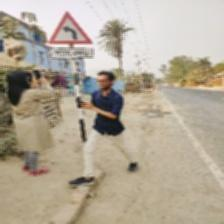Left-Turn: (47, 11, 95, 67)
